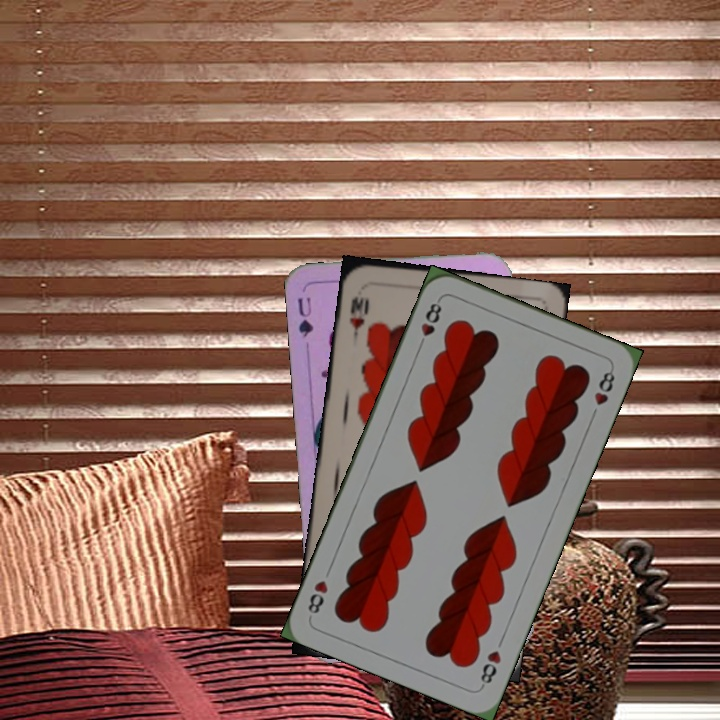GU: (293, 293, 316, 340)
H10: (345, 292, 372, 342)
H8: (414, 295, 445, 351), (476, 646, 504, 690)
